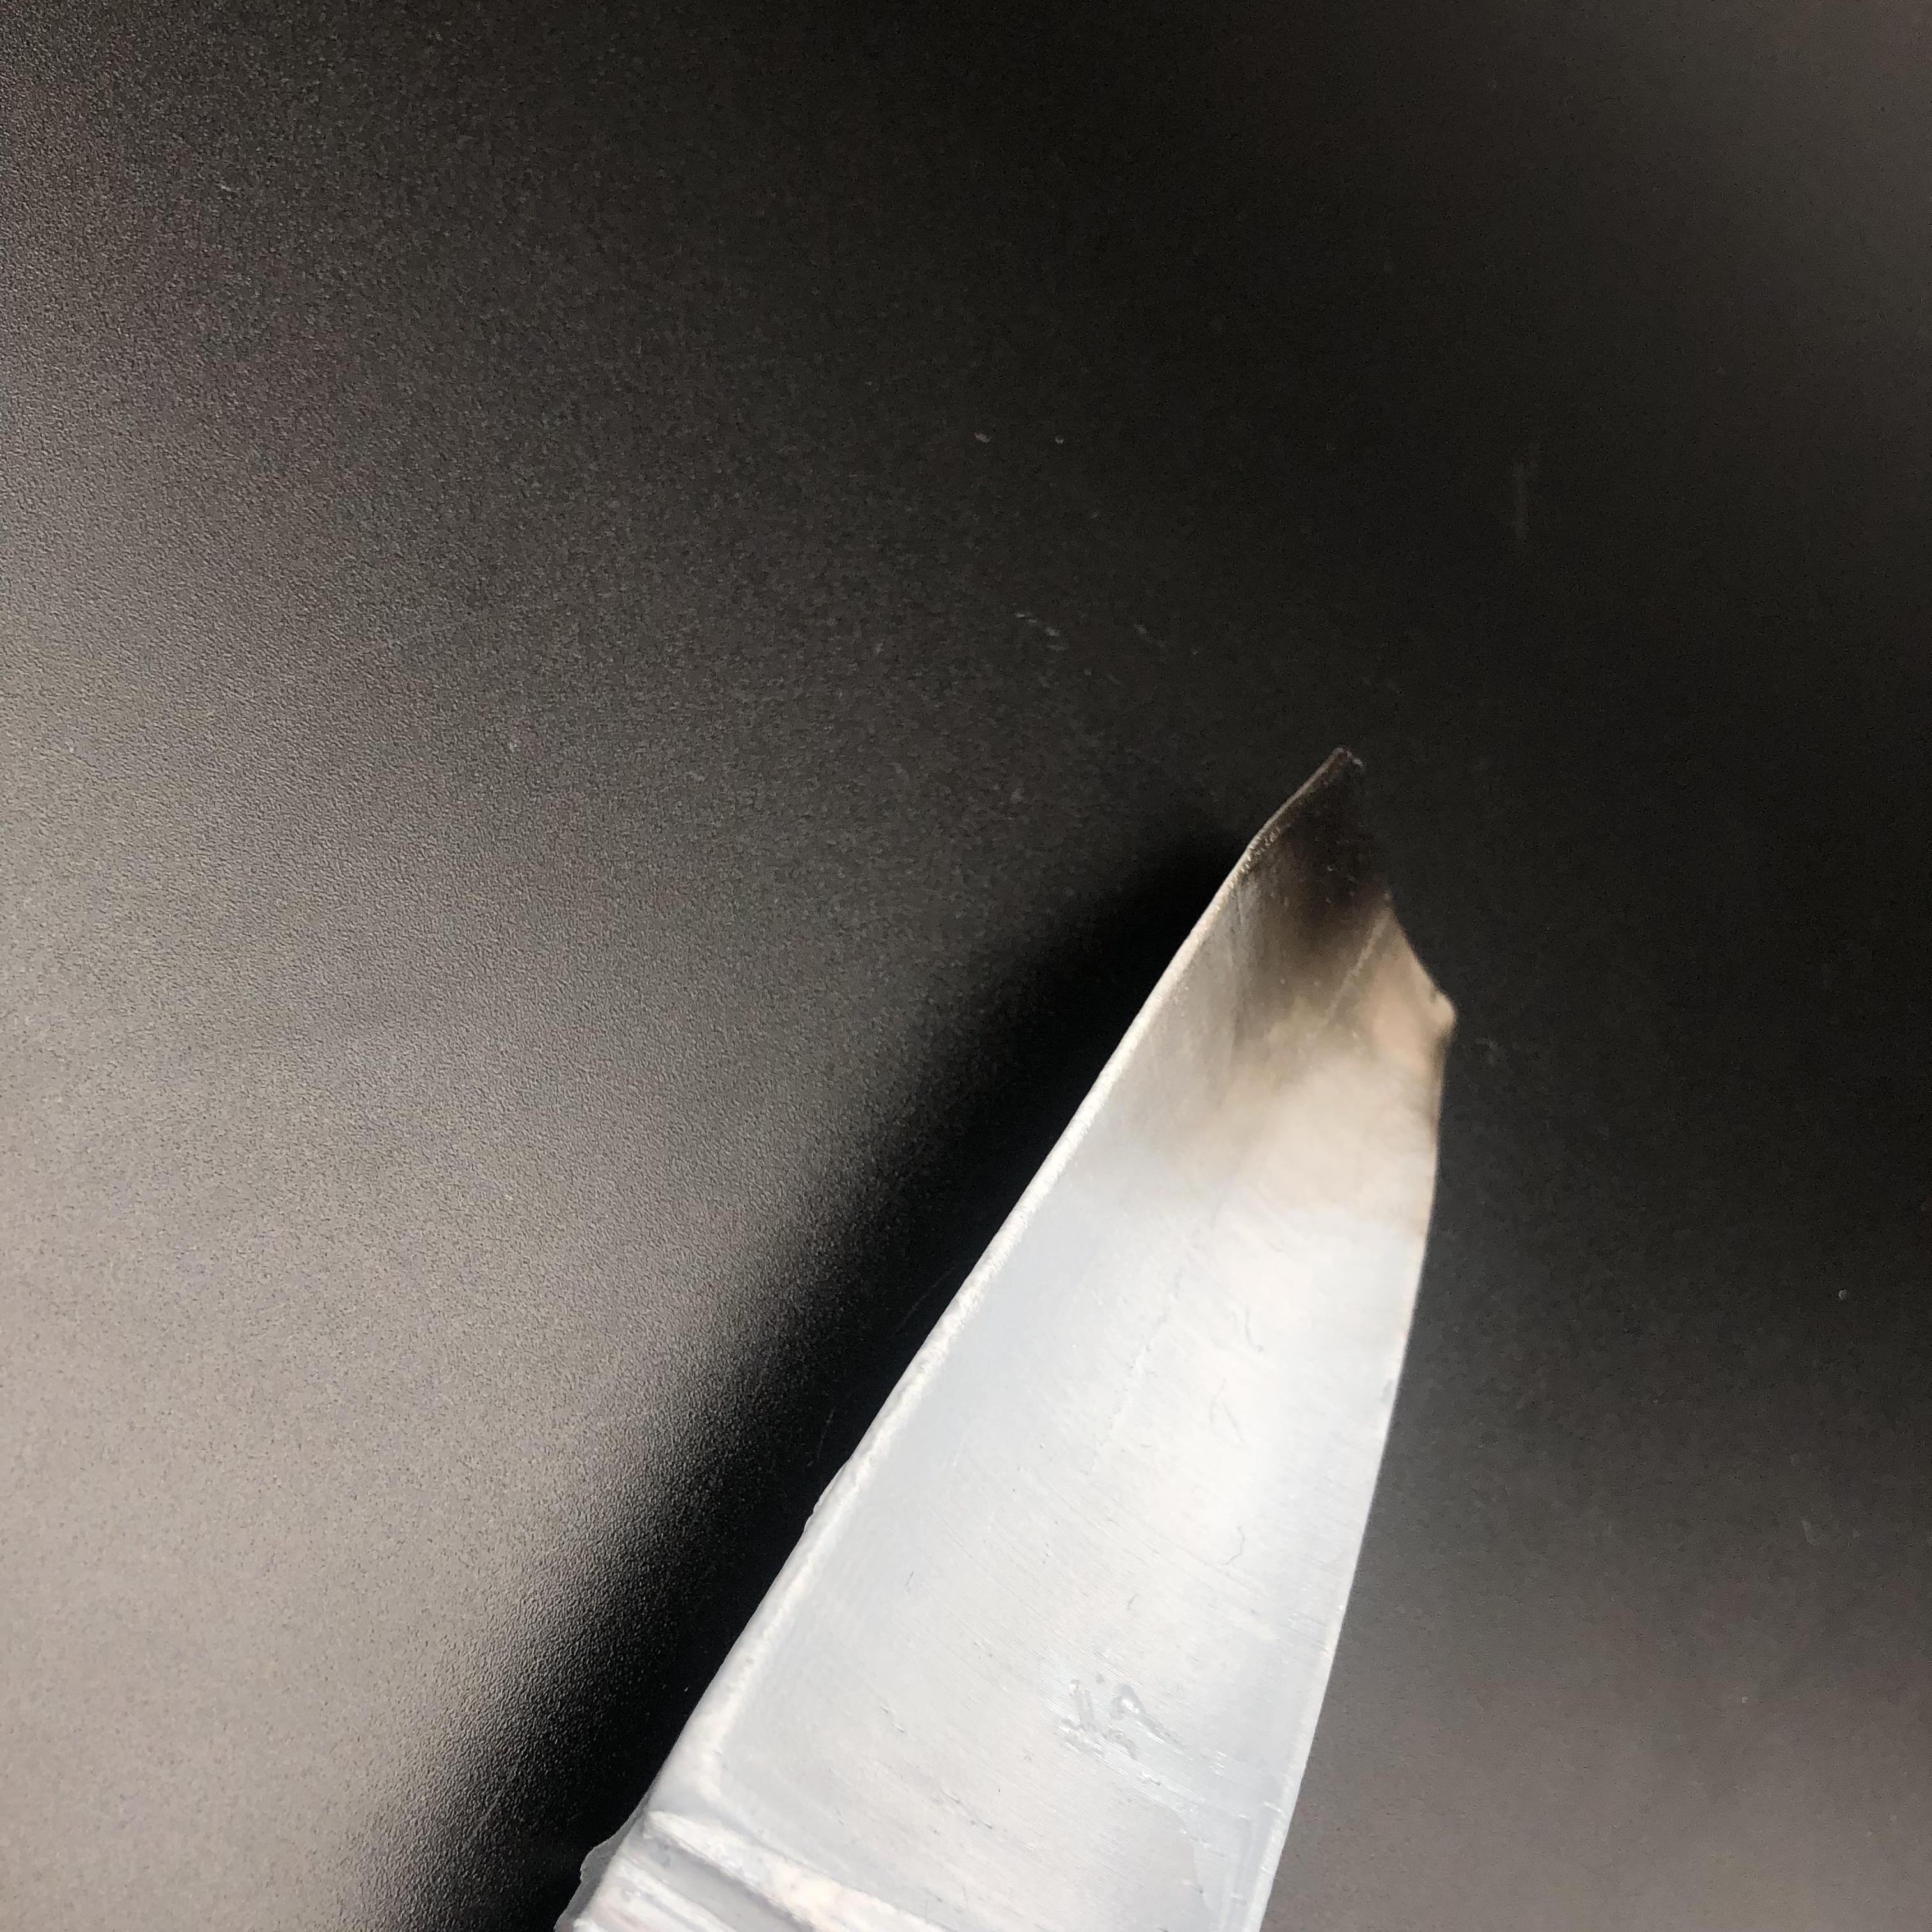ablation: (1269, 782, 1410, 1049)
